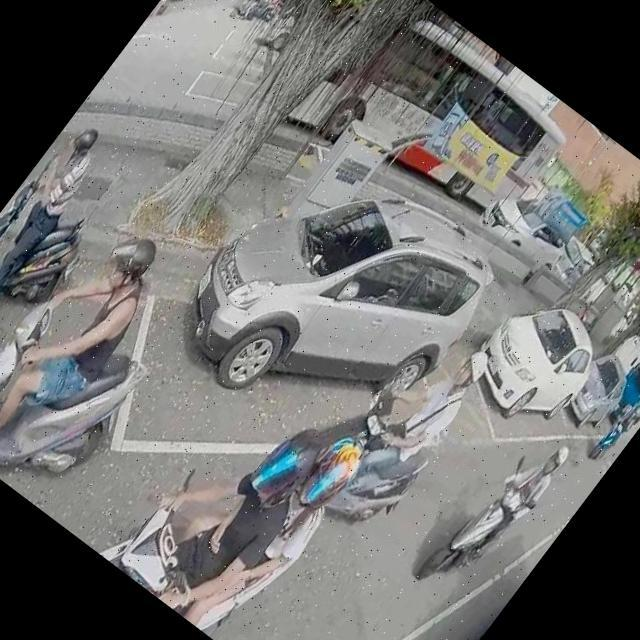person: (144, 371, 395, 640), (105, 377, 342, 635), (0, 204, 188, 487), (310, 325, 500, 546), (0, 116, 118, 338), (442, 424, 575, 581), (592, 400, 640, 462), (238, 0, 269, 19)
